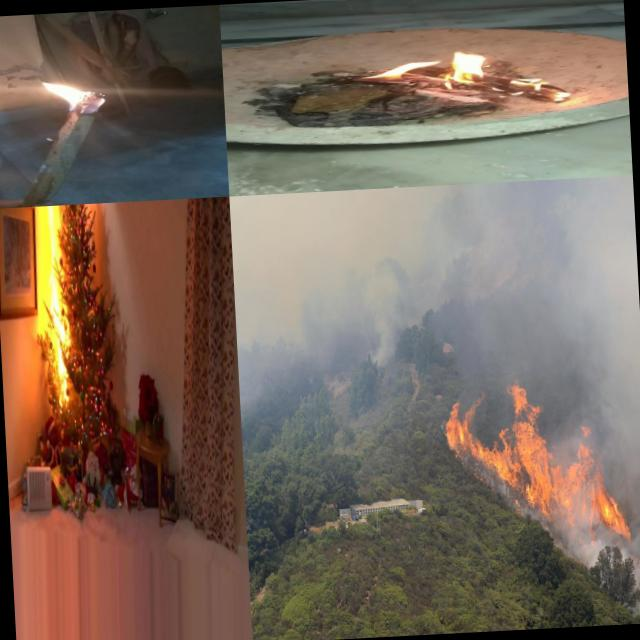fire: (442, 374, 632, 568), (340, 38, 569, 110), (42, 205, 76, 418), (31, 75, 126, 125)
smoke: (230, 186, 442, 409), (429, 177, 624, 386), (613, 175, 640, 540)
